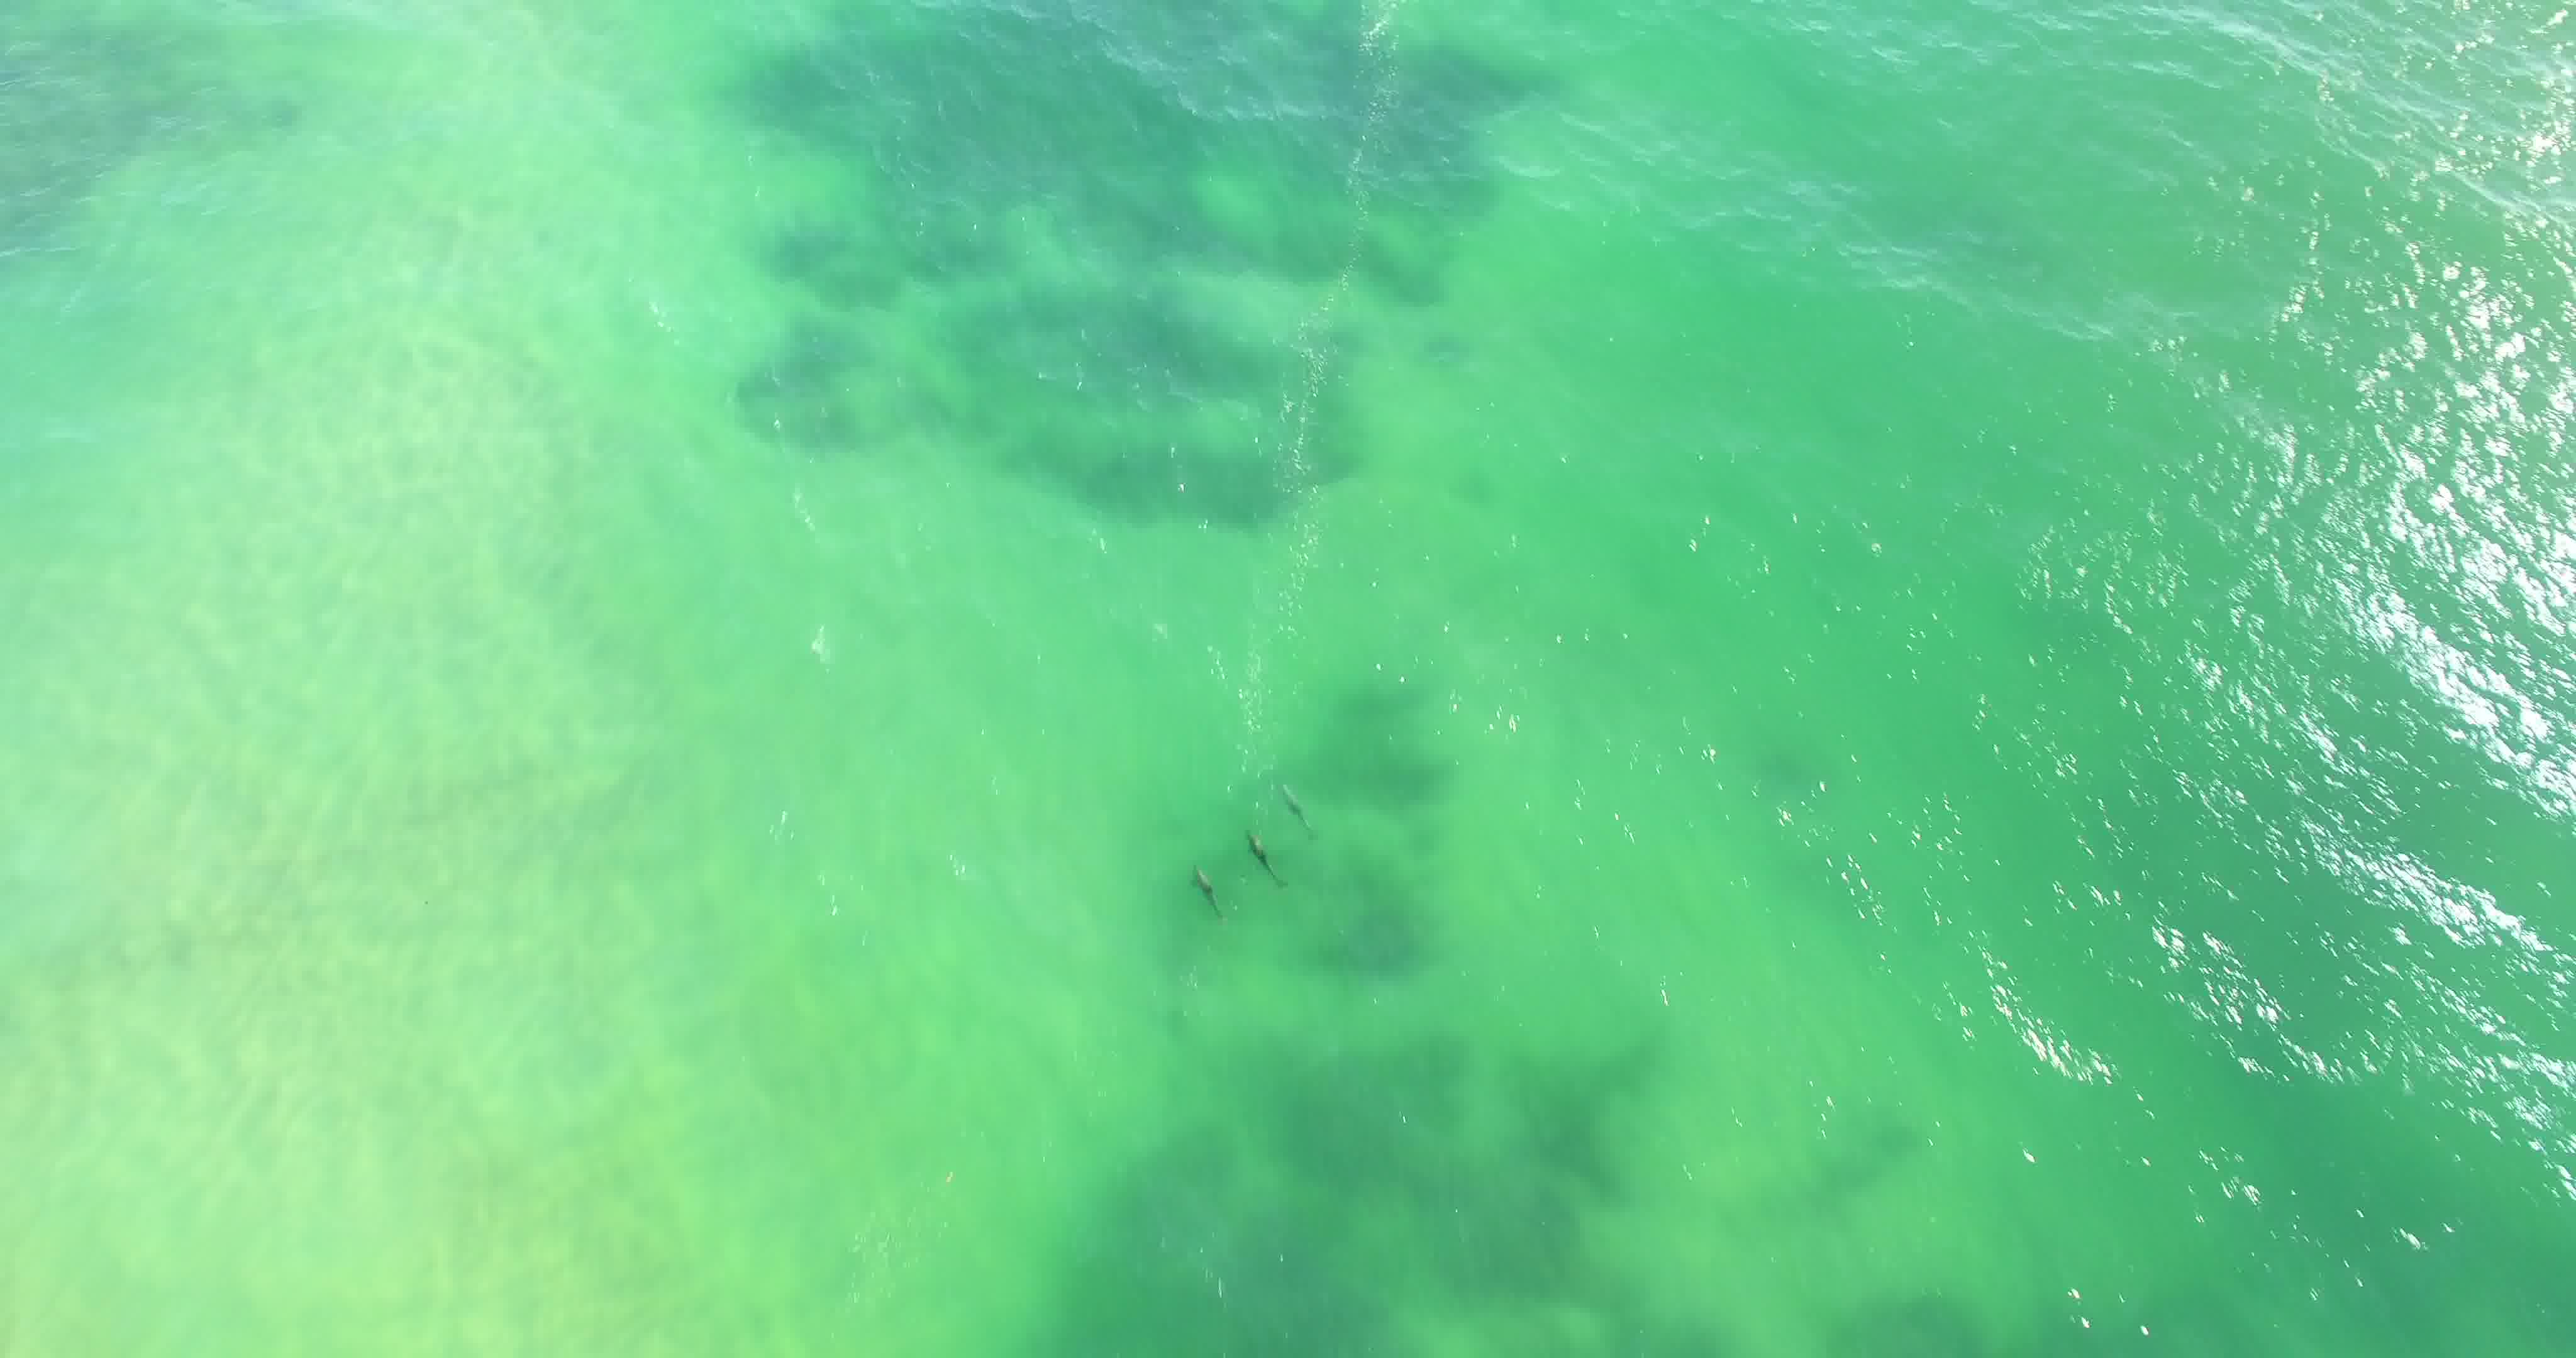dolphin: (1177, 849, 1233, 930), (1225, 818, 1290, 888), (1271, 765, 1327, 843)
